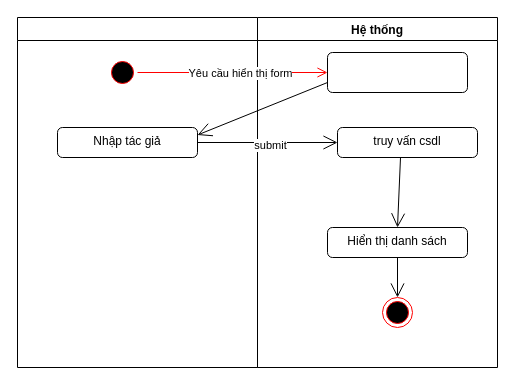
This 515x385 diagram has some shape labels left out. Here are the shapes that lost their labels. From the top down, the box of each, then its label:
(326, 52, 468, 92): Hiển thị form tìm kiếm
(16, 16, 258, 368): Admin
